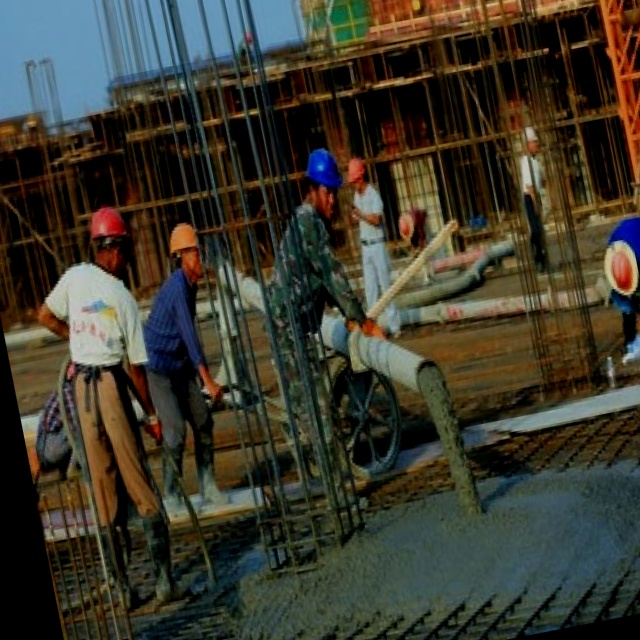Con_Casco: (302, 146, 346, 219), (87, 203, 132, 267)
